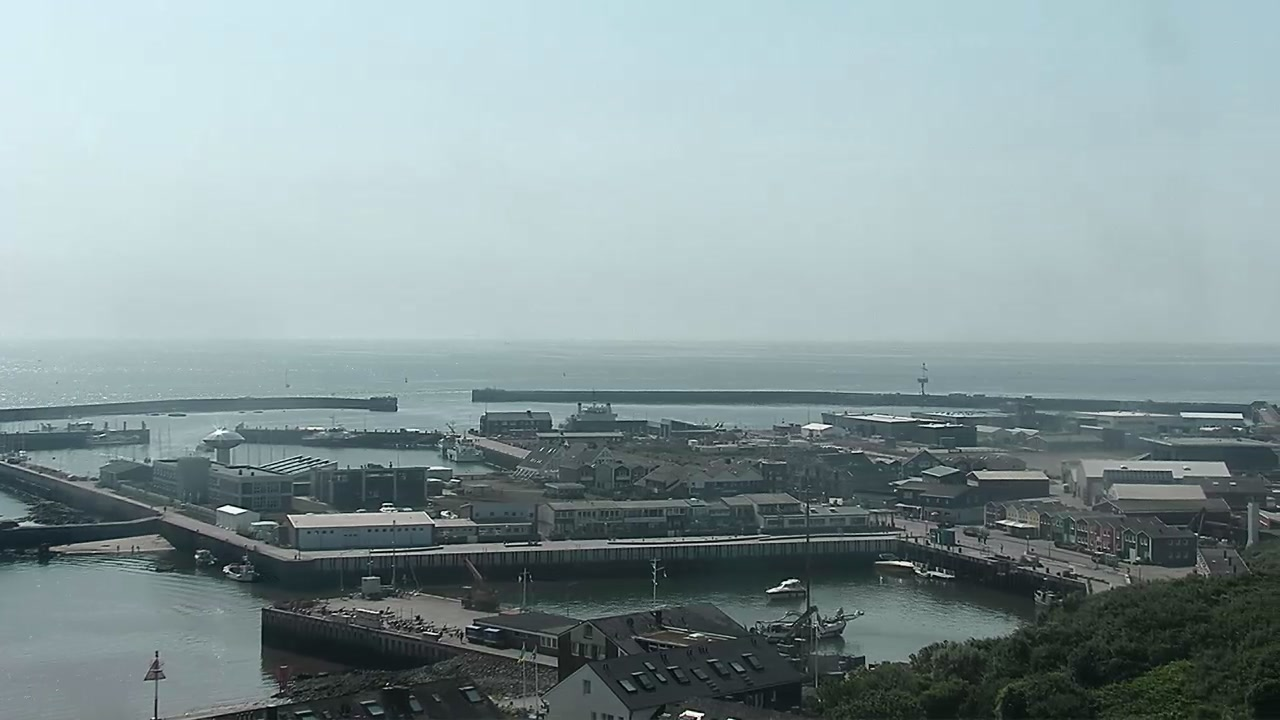human: (999, 543, 1004, 552)
land: (460, 556, 501, 611)
sea: (297, 421, 365, 446), (222, 553, 263, 583), (874, 551, 915, 575), (764, 578, 808, 600), (448, 437, 485, 462), (1033, 586, 1068, 610), (13, 424, 31, 461), (86, 432, 122, 446), (193, 548, 219, 566), (66, 419, 94, 431), (377, 501, 400, 513), (439, 510, 459, 519)
